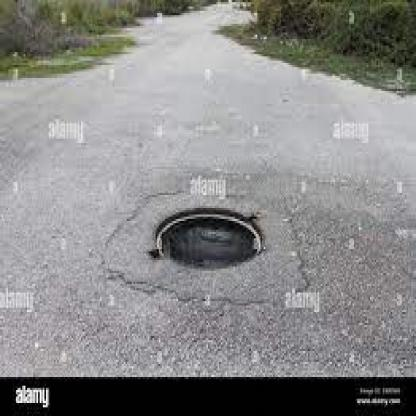closed manhole-not overflowing-: (142, 197, 270, 279)
